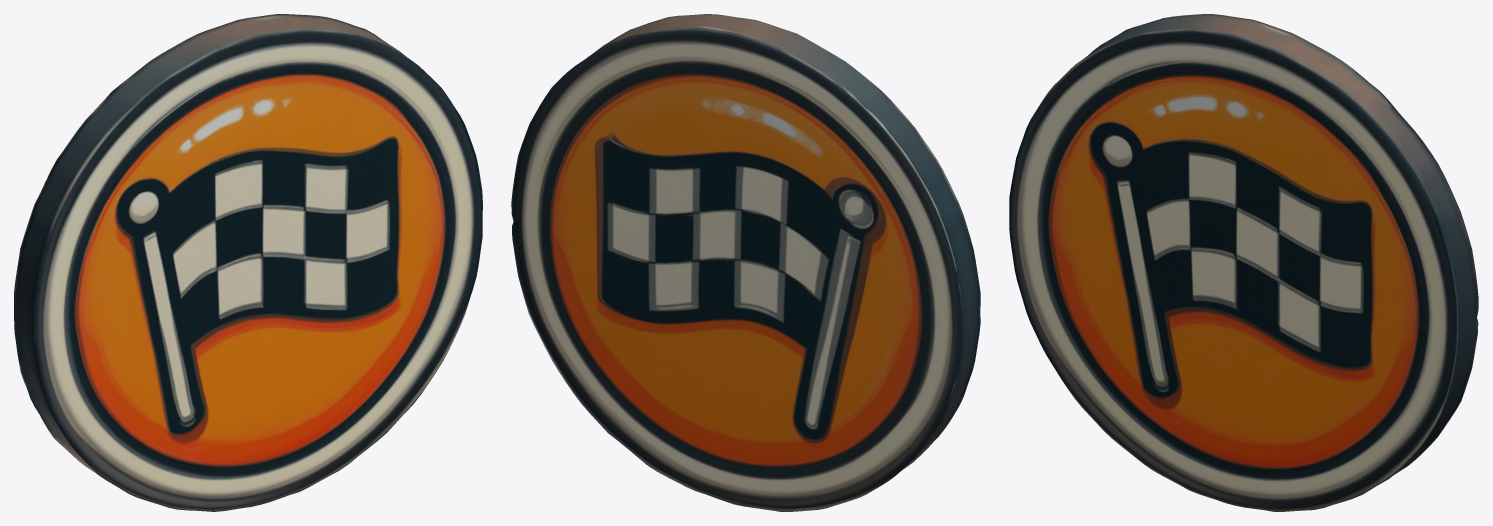
File: finish_pin.glb
The picture shows the model from 3 angles, left to right: view 1: azimuth 30°, elevation 25°; view 2: azimuth 150°, elevation 25°; view 3: azimuth 330°, elevation 25°; orthographic projection.
Size of the model in its own units: 2 by 2 by 0.1597.
1 material, 1 textured.
